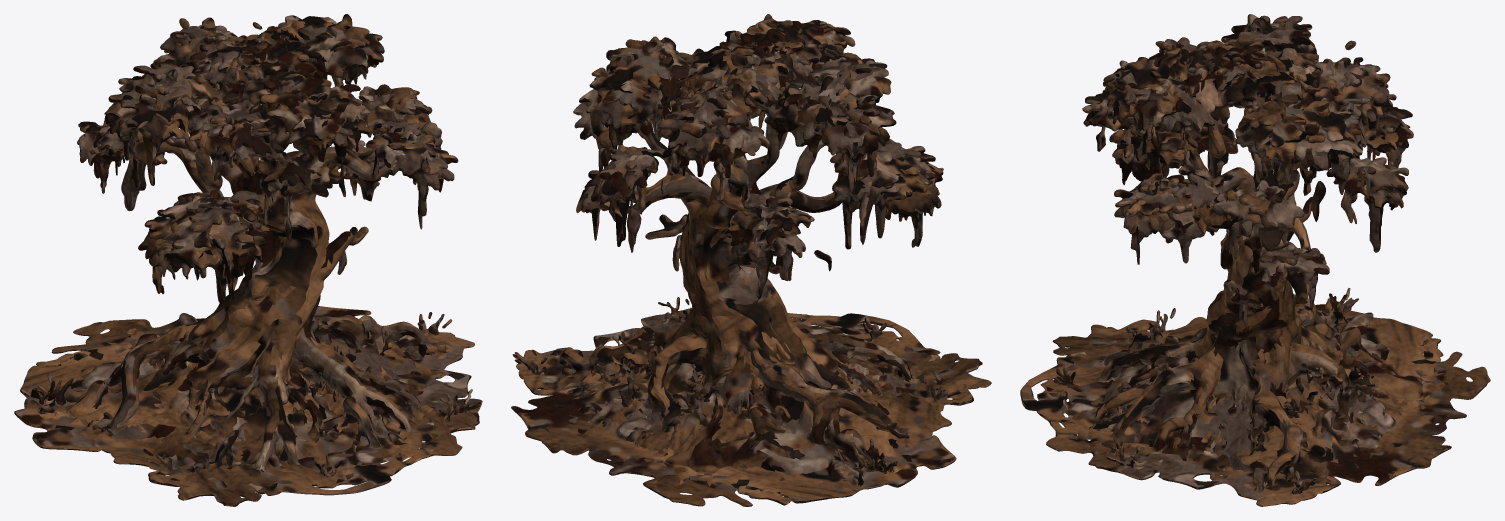
File: swamp_center_tree.obj
3 renders of one model, left to right at view 1: azimuth 30°, elevation 25°; view 2: azimuth 150°, elevation 25°; view 3: azimuth 270°, elevation 25°, orthographic.
Visible parts, largest first — view 1: geometry_0; view 2: geometry_0; view 3: geometry_0.
Boxes of the visible parts, x1,y1,x2,y2 form: geometry_0: (14, 14, 482, 506); geometry_0: (511, 14, 991, 506); geometry_0: (1020, 14, 1490, 506).
Bounding box in the file's own units: 1 × 0.7977 × 0.9574.
